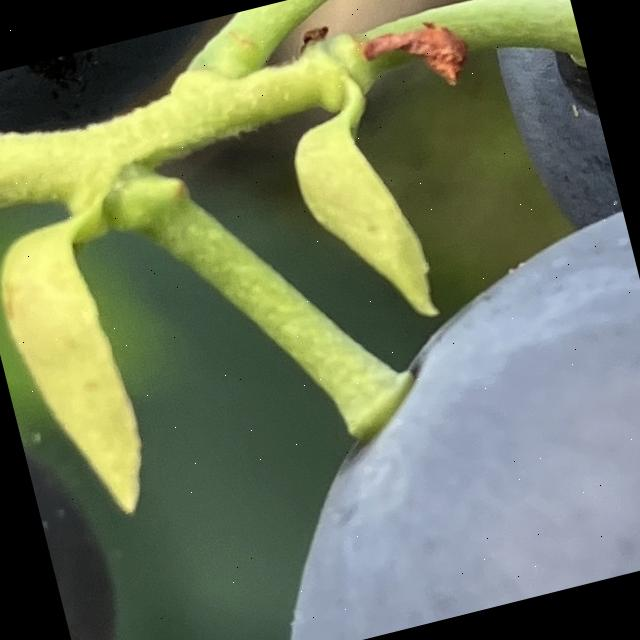Blueberries: (179, 203, 640, 640)
